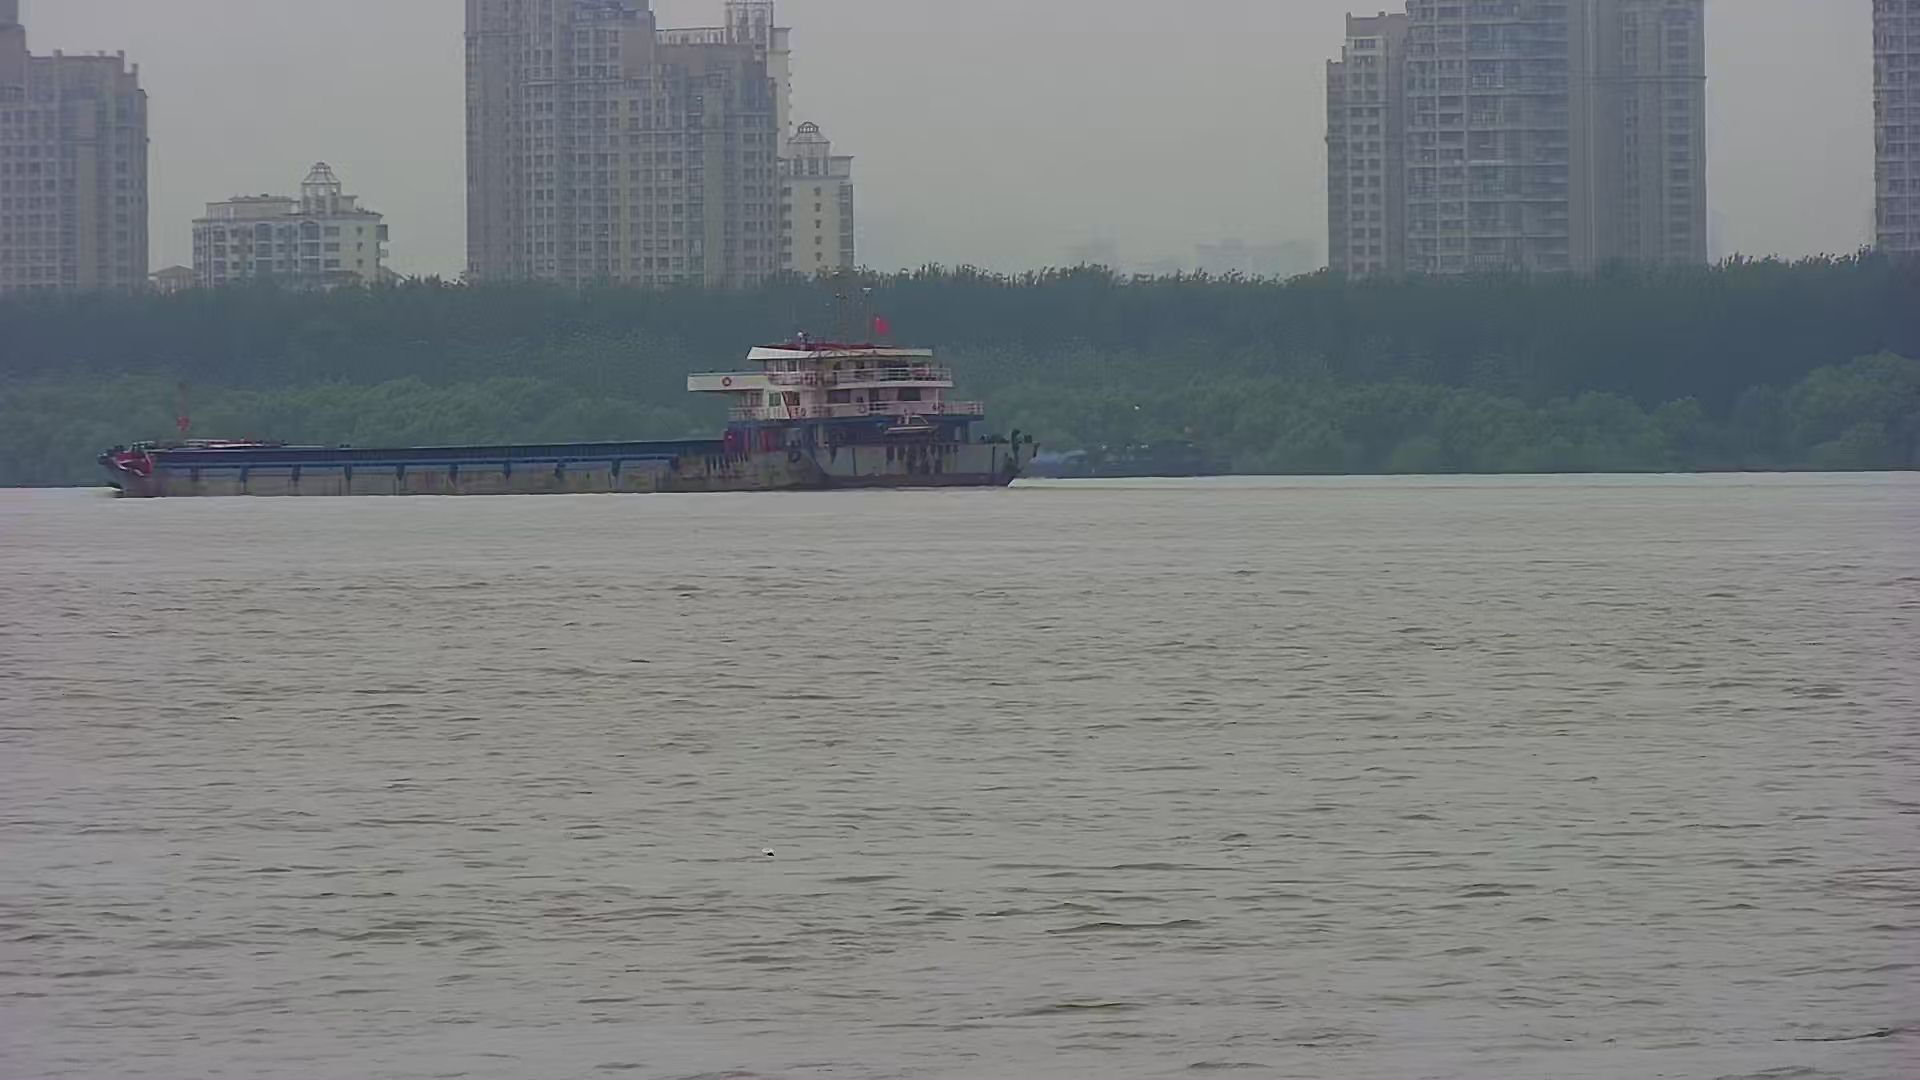ship: (92, 328, 1046, 488), (1004, 419, 1247, 481)
